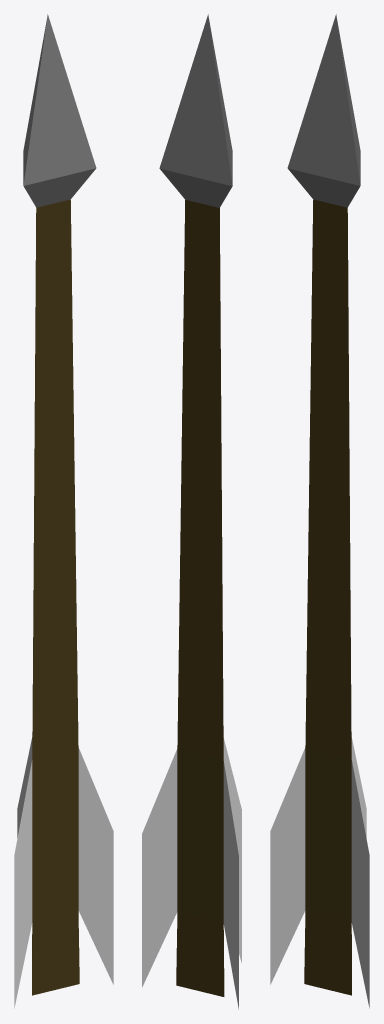
Rendered from Arrow.fbx.
3 renders of one model, left to right at view 1: azimuth 30°, elevation 25°; view 2: azimuth 210°, elevation 25°; view 3: azimuth 330°, elevation 25°, orthographic.
Visible parts, largest first — view 1: Cylinder; view 2: Cylinder; view 3: Cylinder.
Boxes of the visible parts, left/top/right/bottom form: Cylinder: left=14, top=14, right=113, bottom=1008; Cylinder: left=142, top=14, right=241, bottom=1009; Cylinder: left=270, top=14, right=369, bottom=1008.
Bounding box in the file's own units: 66.91 × 624 × 54.51.
